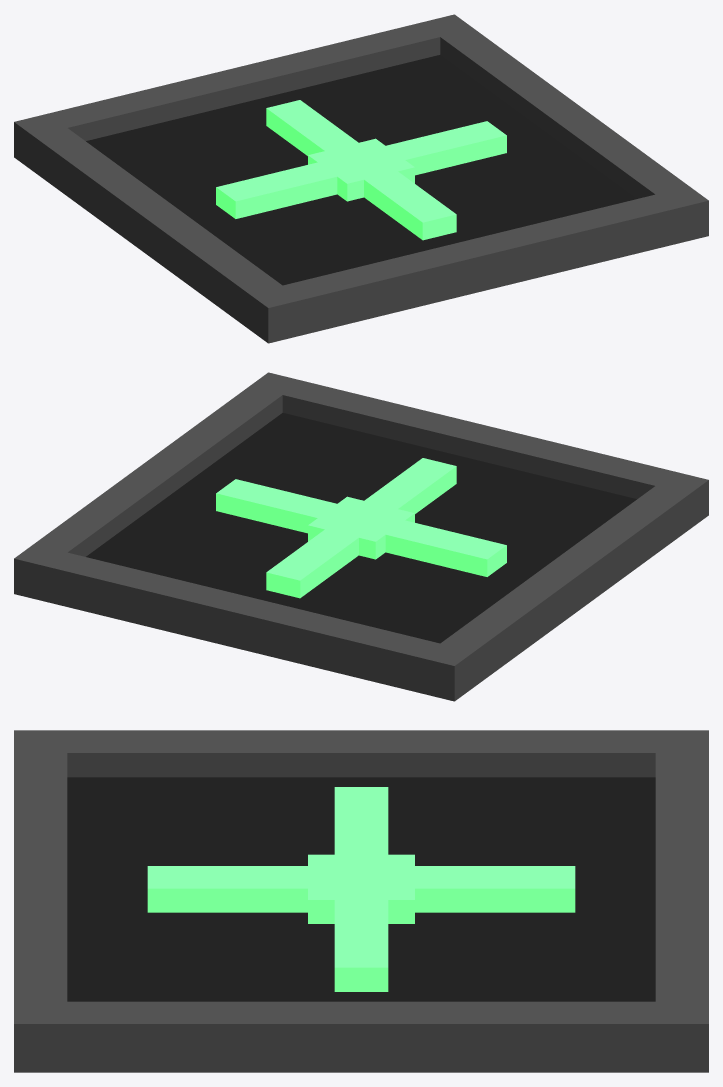
The model's file is trap_LARGE_DOT_GREEN.glb.
3 renders of one model, top to bottom at view 1: azimuth 30°, elevation 25°; view 2: azimuth 150°, elevation 25°; view 3: azimuth 270°, elevation 25°, orthographic. The views are drawn at different scales.
Parts seen in each view (by area): view 1: item_TRAP_LARGE_DOT_GREEN; view 2: item_TRAP_LARGE_DOT_GREEN; view 3: item_TRAP_LARGE_DOT_GREEN.
Boxes of the visible parts, left/top/right/bottom form: item_TRAP_LARGE_DOT_GREEN: left=14, top=14, right=708, bottom=343; item_TRAP_LARGE_DOT_GREEN: left=14, top=372, right=708, bottom=701; item_TRAP_LARGE_DOT_GREEN: left=14, top=730, right=708, bottom=1072.
Bounding box in the file's own units: 0.5909 × 0.0455 × 0.5909.
Materials: 1 (1 with a texture image).
